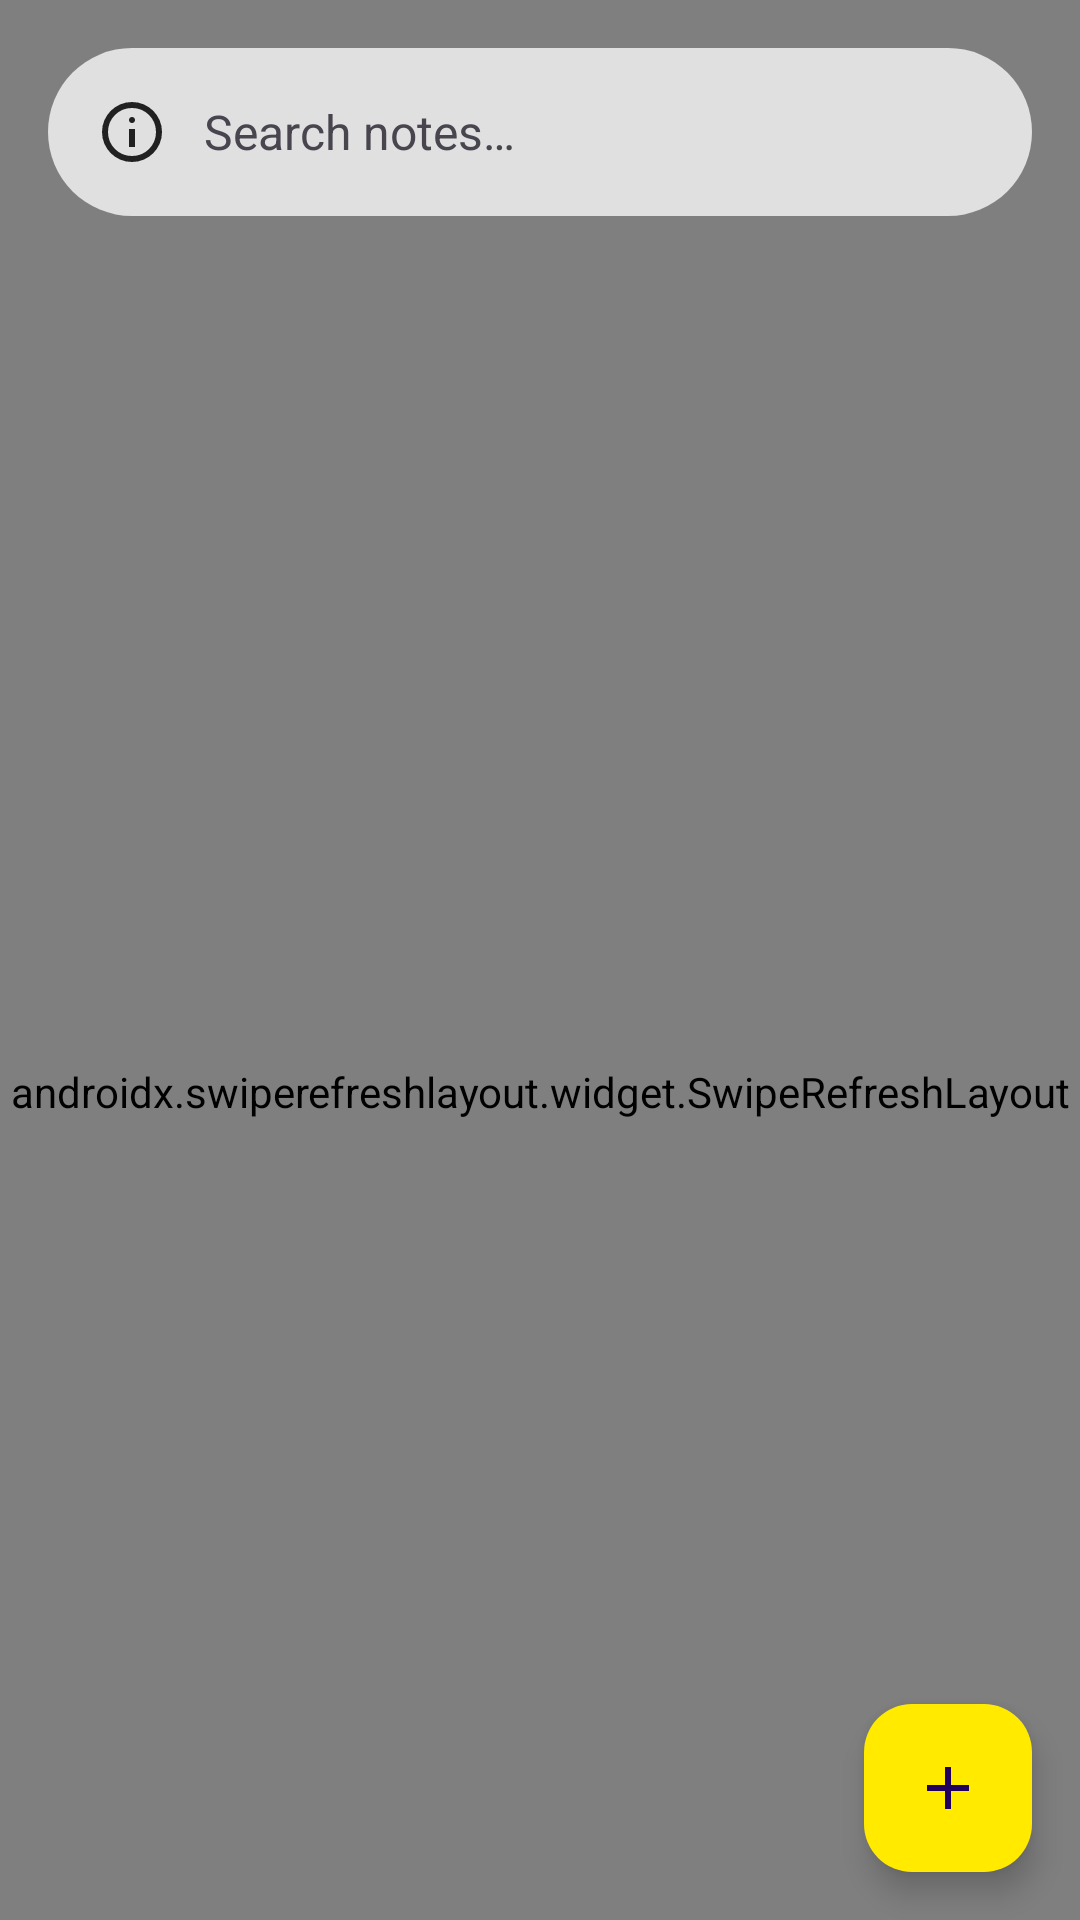

Screen size 1080px×1920px. Icon name, then its box in pixels as Rect(x1, y1, x2, y2):
Button to open add new note screen: Rect(864, 1704, 1032, 1872)
